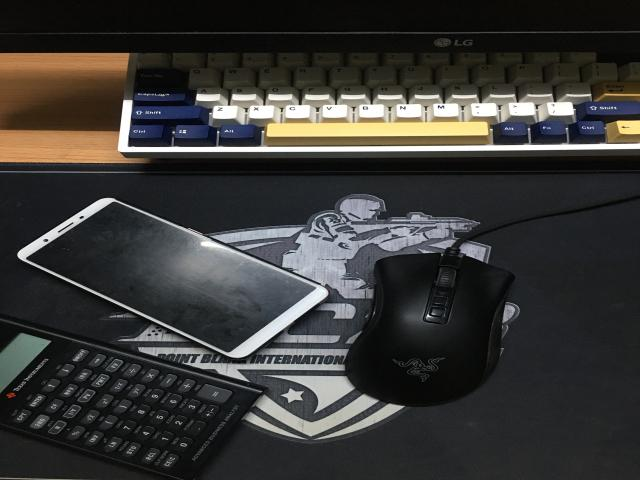Mobile phone: (18, 198, 328, 359)
Mouse: (345, 193, 638, 406)
